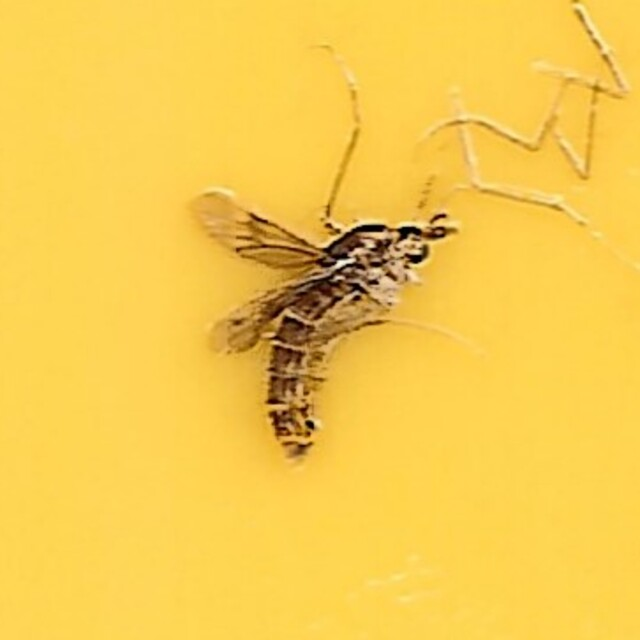Nematocera: (176, 176, 464, 464)
